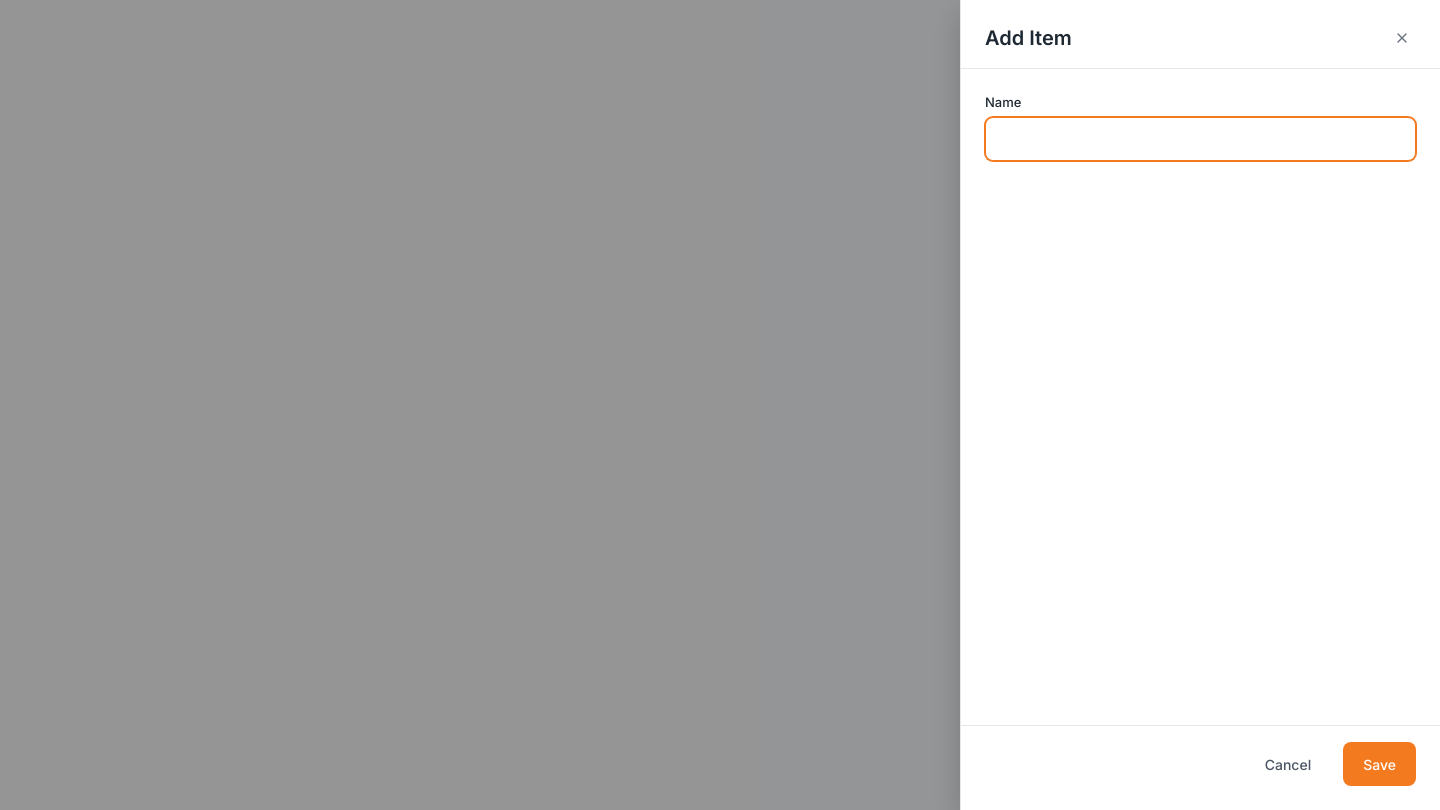
Test: FormDrawer › unsaved changes dialog › keeps editing when Keep Editing is clicked in unsaved changes dialog
The width and height of the screenshot is (1440, 810).
Type "dirty" into the field with test id "form-drawer-field-name" at (1200, 139), box [985,117,1416,161]
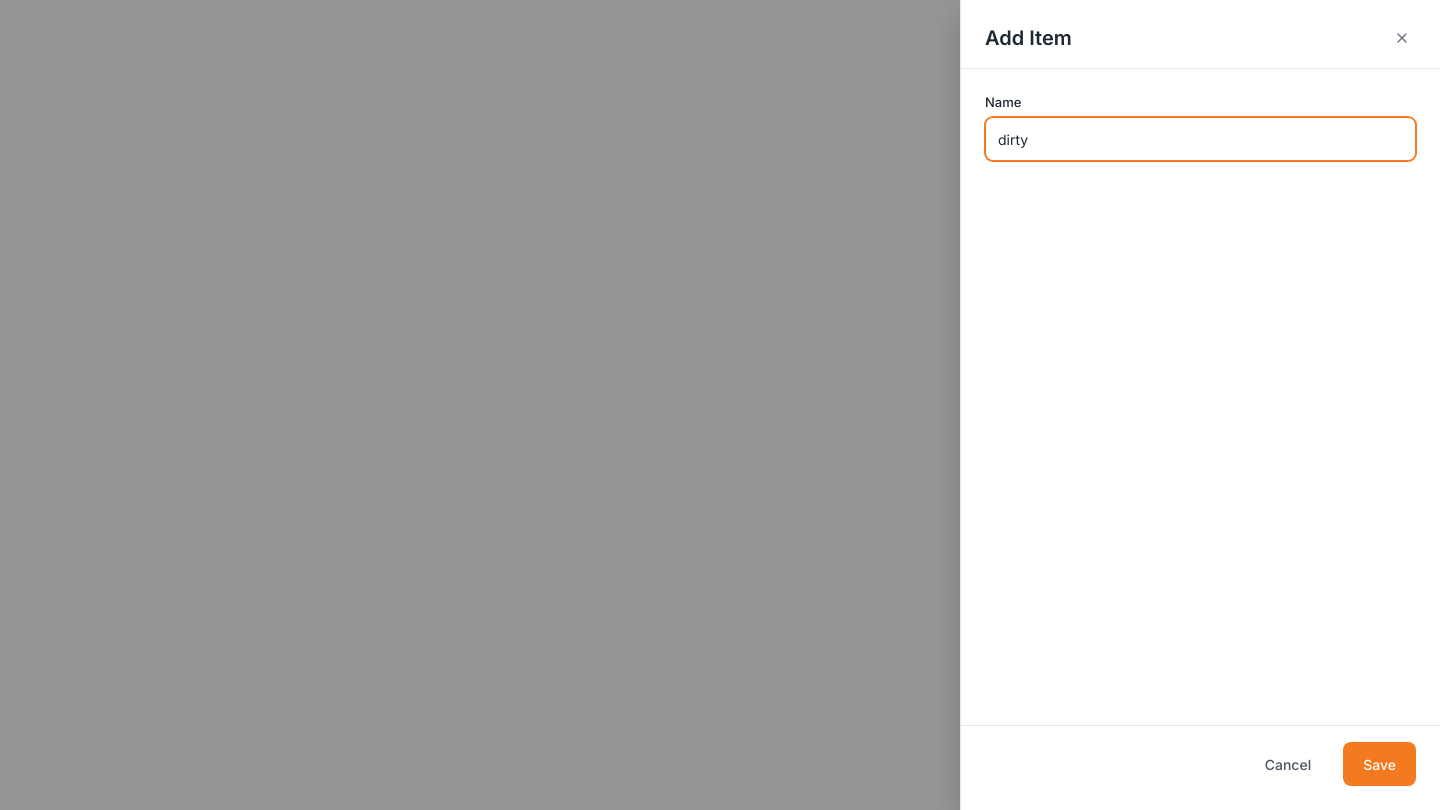
Click the button with test id "form-drawer-close" at (1402, 38), box [1388,24,1416,52]
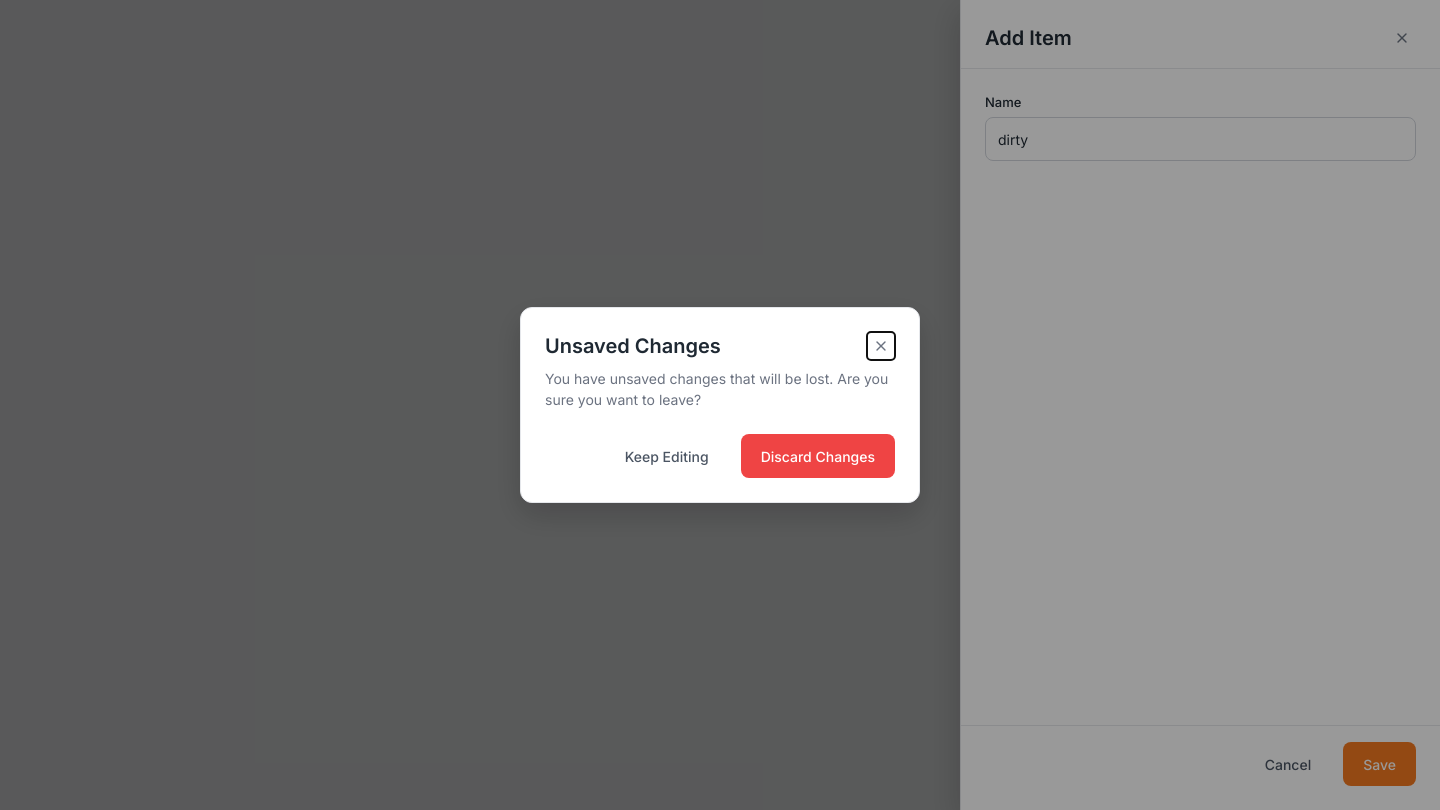
Expected: the heading "Unsaved Changes" is shown, [545,332,721,360]
Click the button "Keep Editing" at (667, 456), box [605,434,729,478]
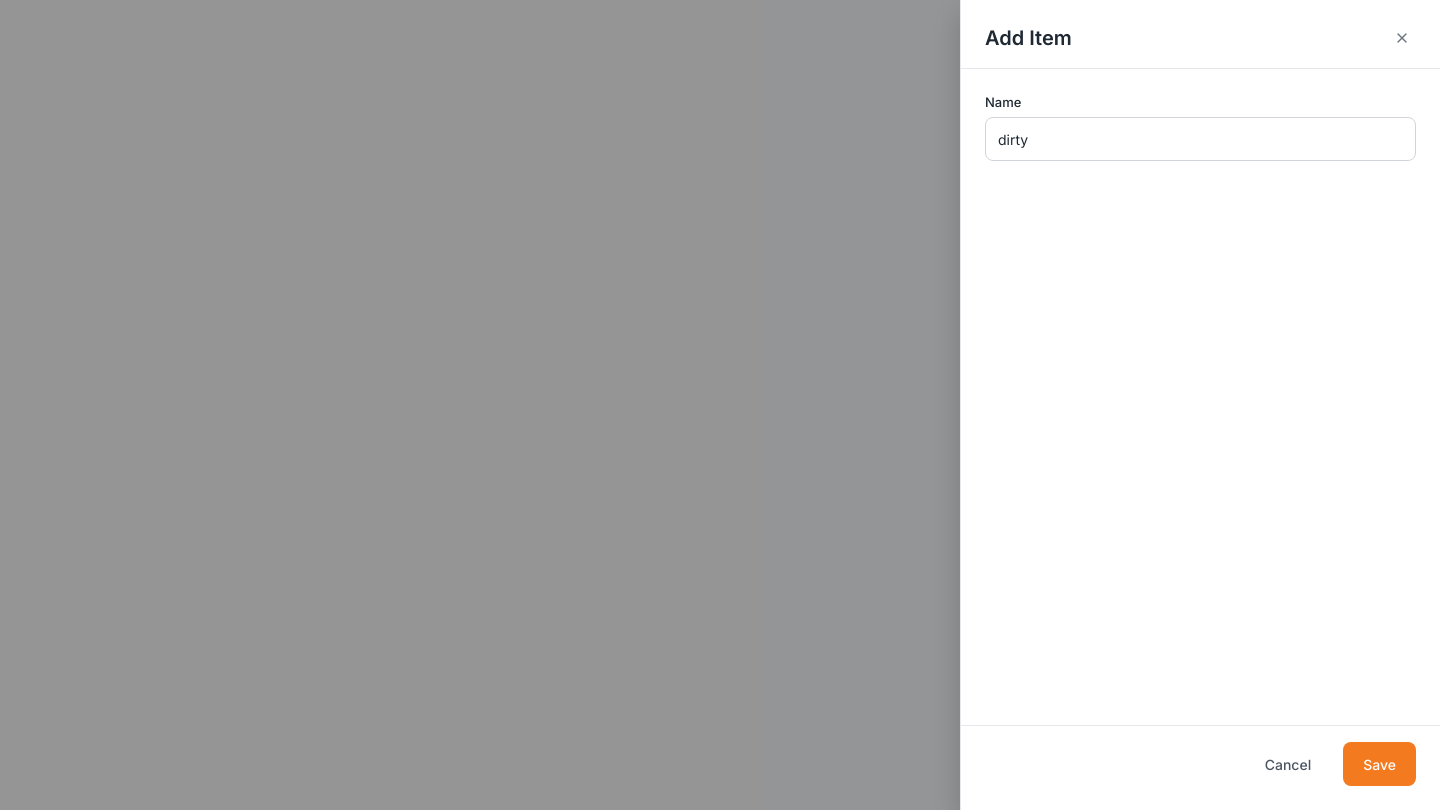
Expected: the heading "Unsaved Changes" is gone
